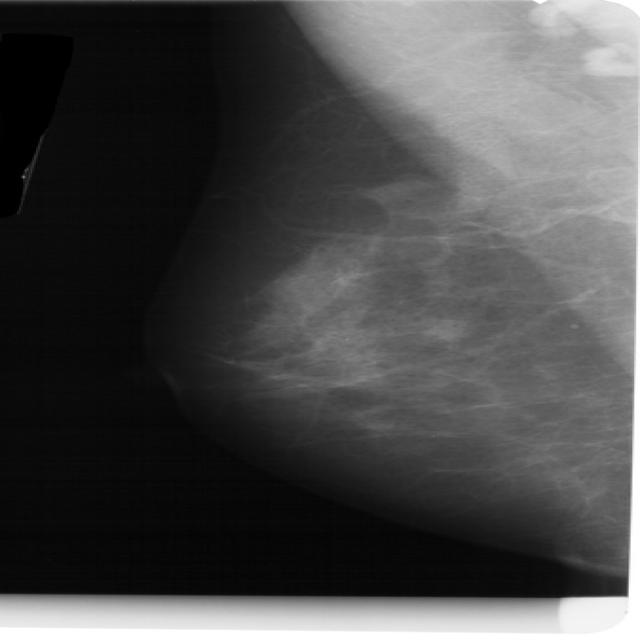tumour: (429, 318, 464, 341)
